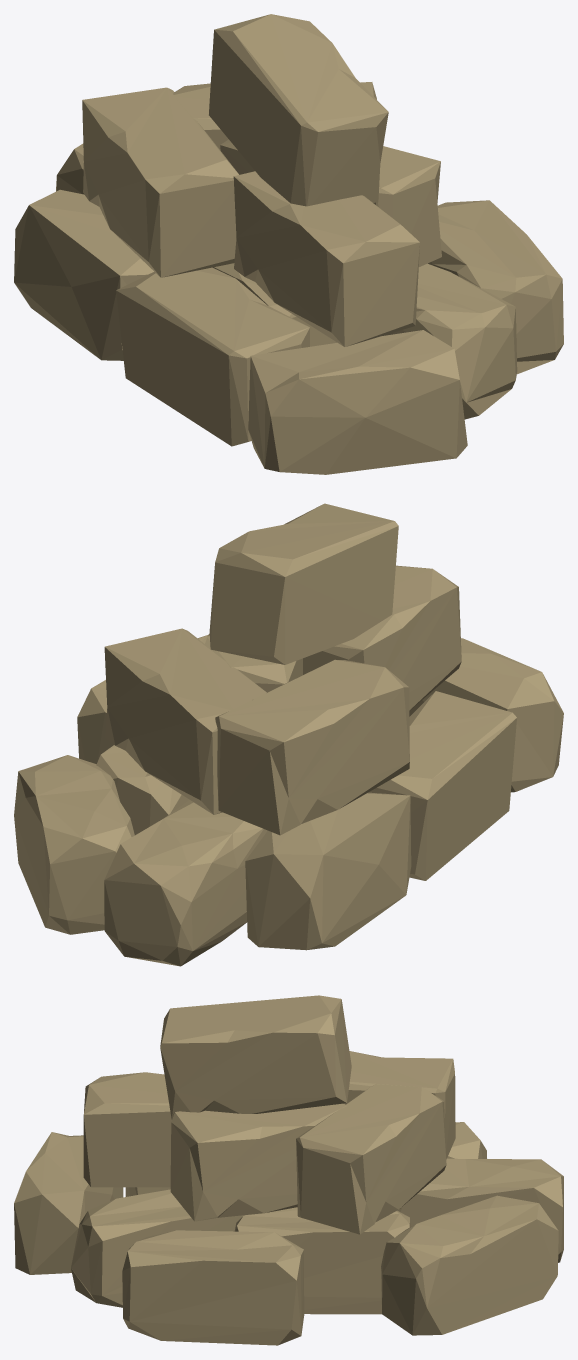
The model's file is SM_brick_pile_02.fbx.
The picture shows the model from 3 angles, top to bottom: view 1: azimuth 30°, elevation 25°; view 2: azimuth 150°, elevation 25°; view 3: azimuth 270°, elevation 25°; orthographic projection. The views are drawn at different scales.
Parts seen in each view (by area): view 1: brick_pile_02; view 2: brick_pile_02; view 3: brick_pile_02.
Part boxes in pixels (x1,y1,x2,y2): brick_pile_02: [14, 14, 563, 474]; brick_pile_02: [14, 503, 563, 966]; brick_pile_02: [14, 995, 563, 1345].
Bounding box in the file's own units: 124 × 102 × 195.
